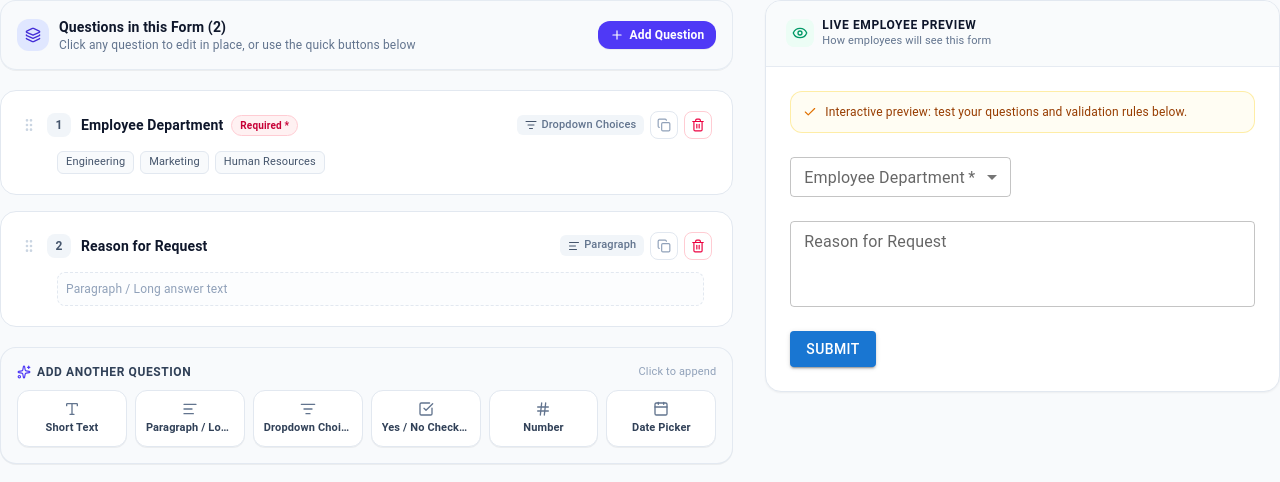
Test case: SchemaBuilder Component › allows reordering and deleting questions
This screenshot has width=1280, height=482.
# Delete second question
Click the 2nd button titled "Delete Question".
click(698, 246)  # box [684,232,712,260]
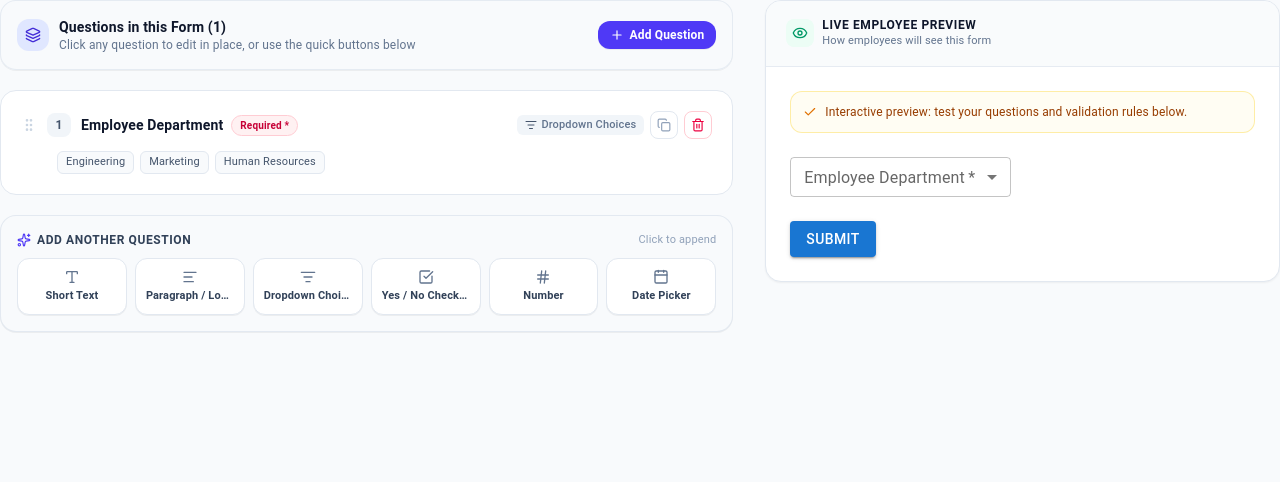
Expected: the text "Reason for Request" is gone
